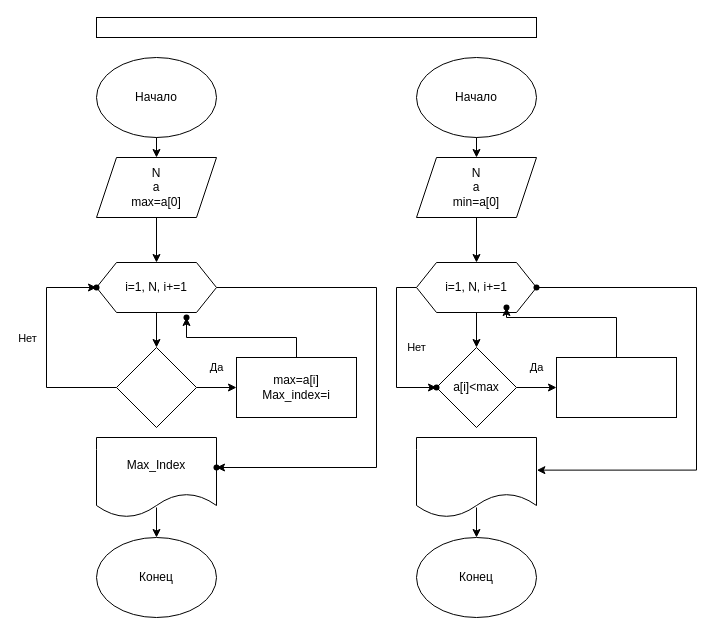
The diagram is 722 pixels wide and 635 high, and some of its shapes have lost their labels. The shapes that lost their labels are listed below. From the top down, each one's centre as x and y in pixels, then its label:
the point at 316,27: Задача 1
the point at 156,387: a[i]>max
the point at 616,387: min=a[i] Min_index=i
the point at 476,477: Min_index
